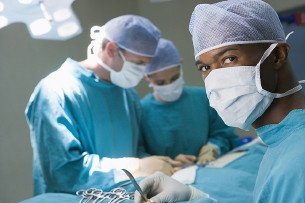Mask: (195, 48, 274, 126)
